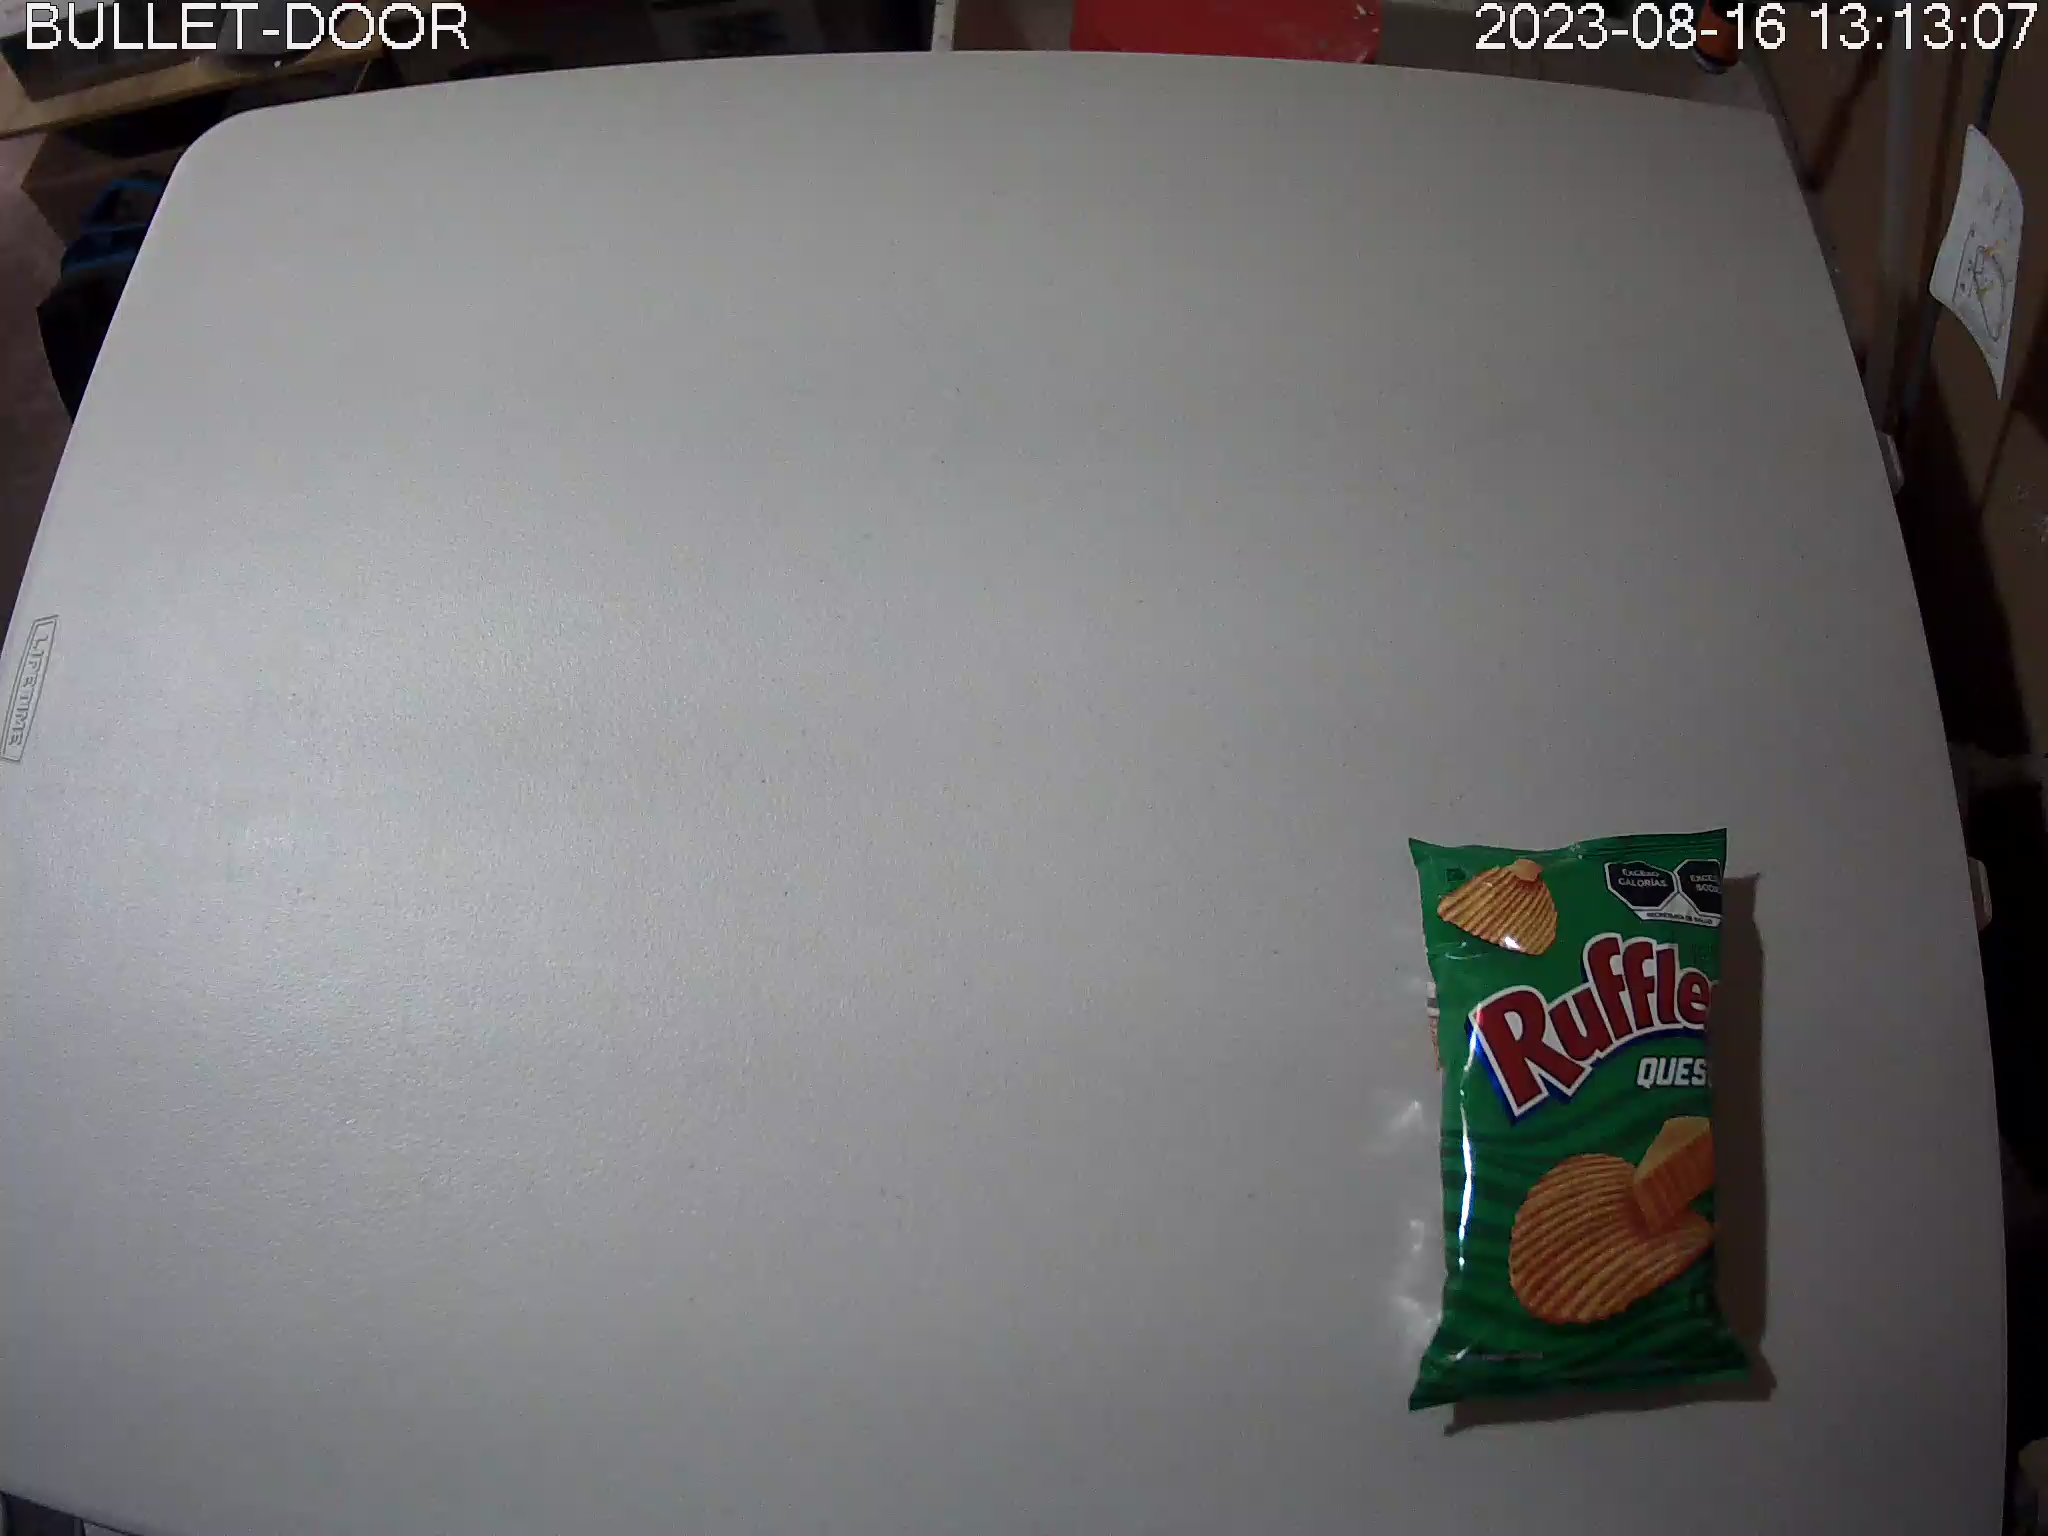RufflesQ_48_F: (1406, 826, 1751, 1412)
